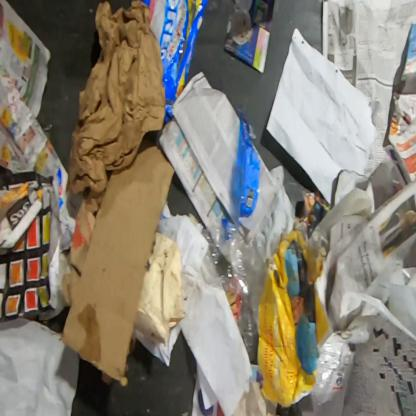cardboard: (60, 132, 175, 388), (245, 231, 334, 408), (127, 231, 186, 356), (62, 184, 108, 306), (101, 371, 113, 385)
rigid_plastic: (204, 110, 264, 367)
soft_plastic: (141, 0, 209, 127)
